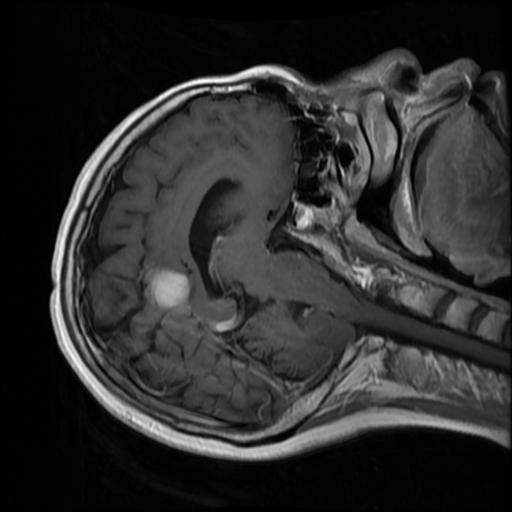meningioma: (145, 268, 190, 308)
